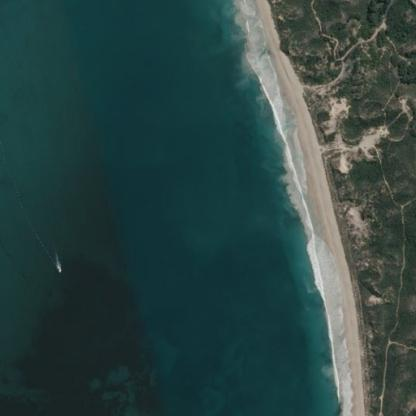ship: (39, 249, 44, 257)
